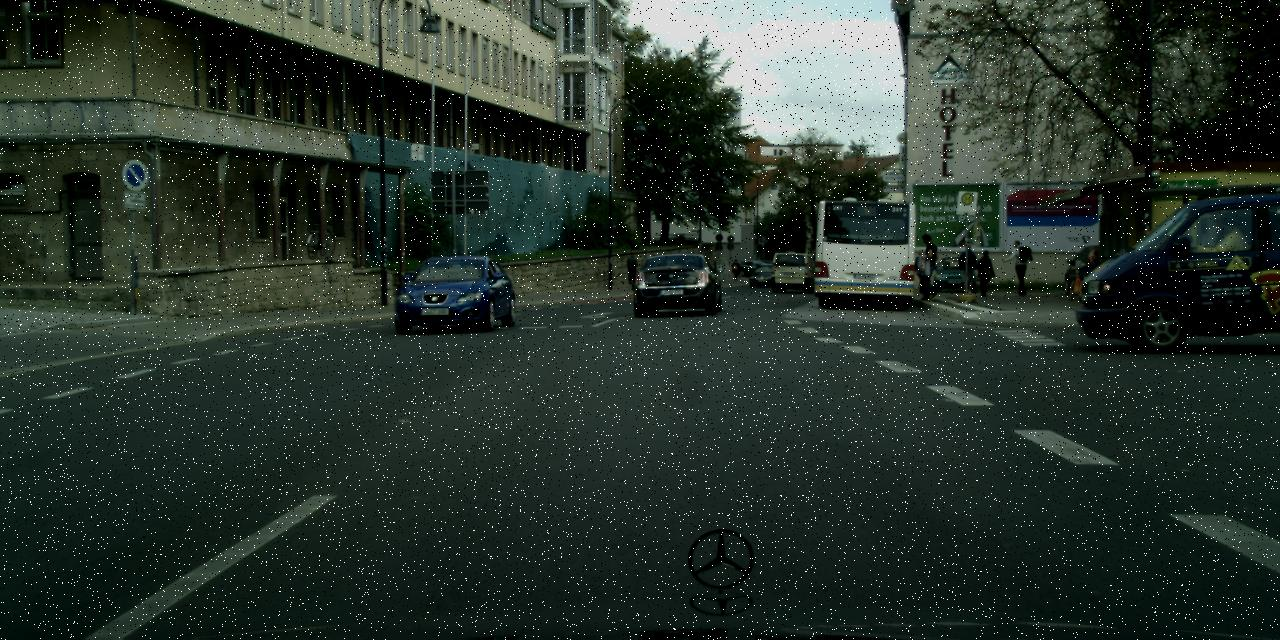ped: (913, 233, 940, 300), (1008, 240, 1030, 296), (957, 243, 977, 294), (974, 248, 994, 296), (913, 248, 931, 292), (624, 251, 638, 289), (731, 259, 740, 280)
